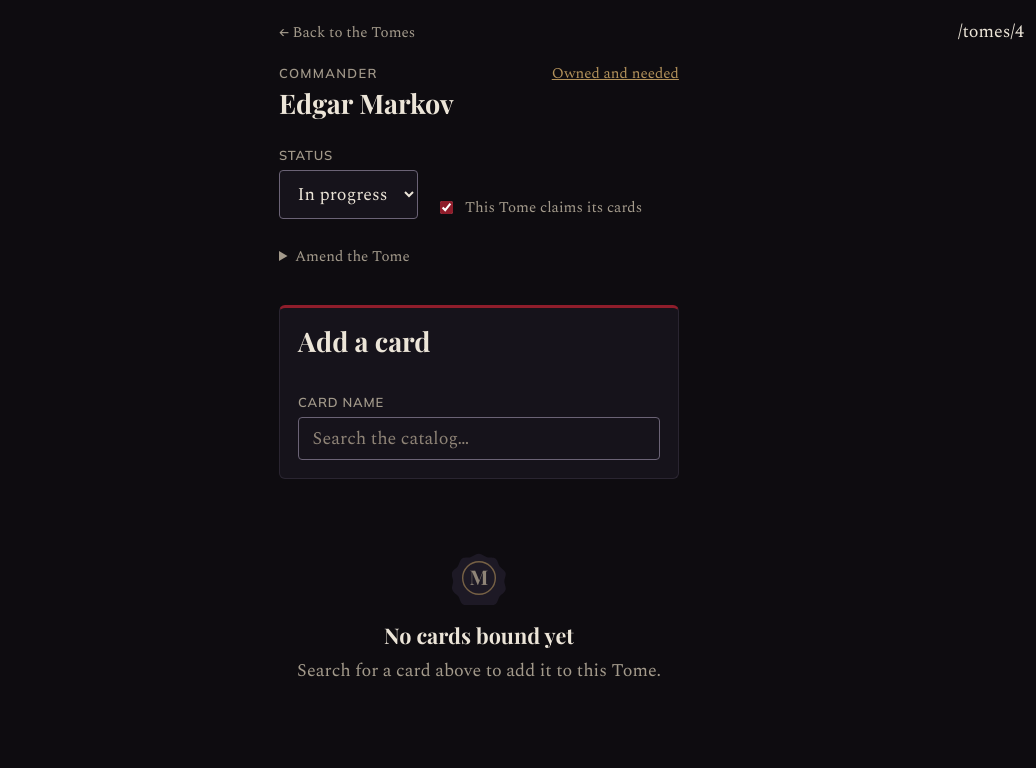
Test: TomeEditorPage › keeps a saved status when a later claims change is refused
Select "Active" in the dropdown labelled "Status" at (348, 194), box [279,170,418,219]
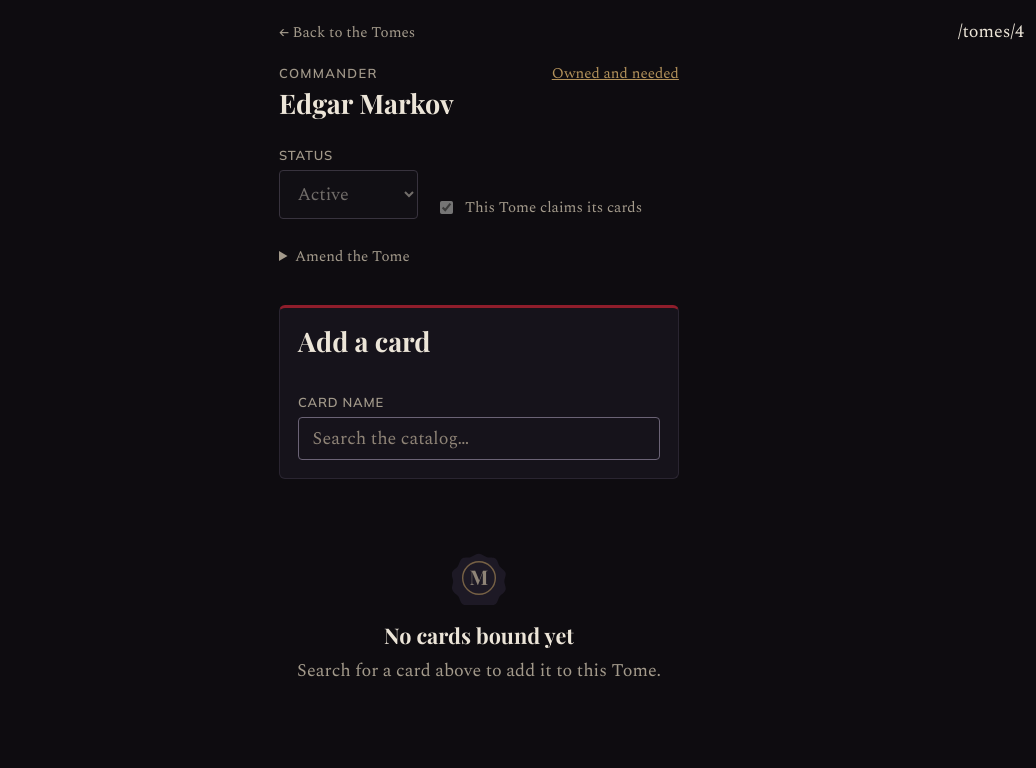
Result: the checkbox labelled "This Tome claims its cards" is disabled
Click the checkbox labelled "This Tome claims its cards" at (446, 208), box [440,201,453,214]
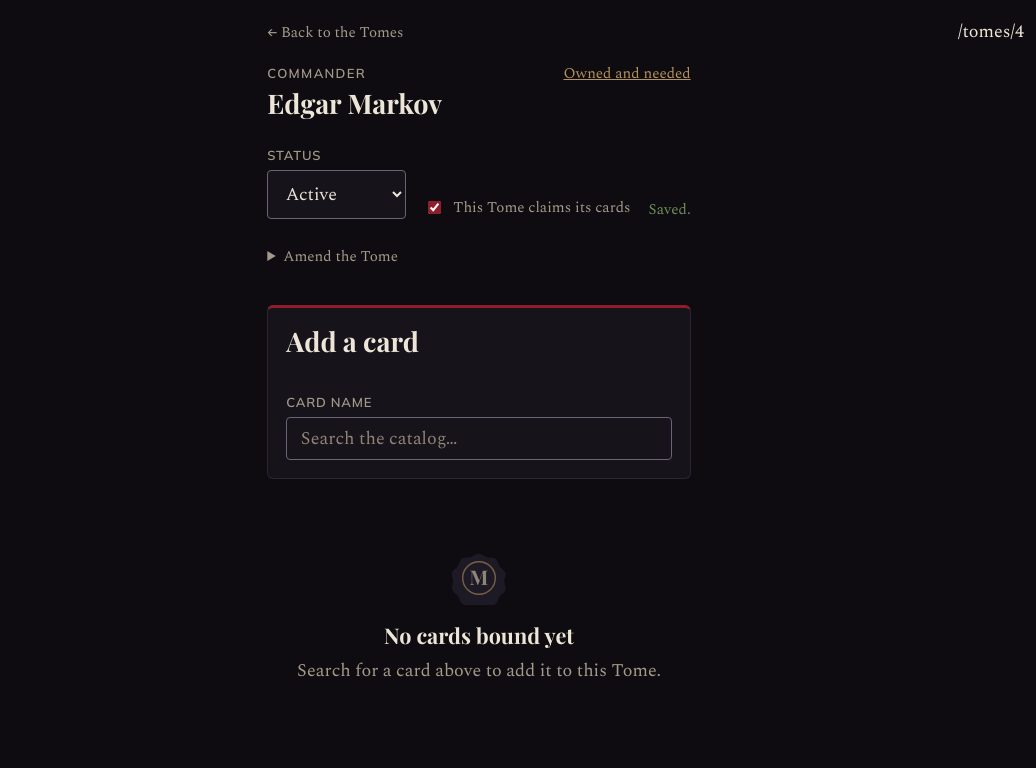
Result: the text "Saved." is shown at [648,200,691,219]
Click the checkbox labelled "This Tome claims its cards" at (435, 208), box [428,201,441,214]
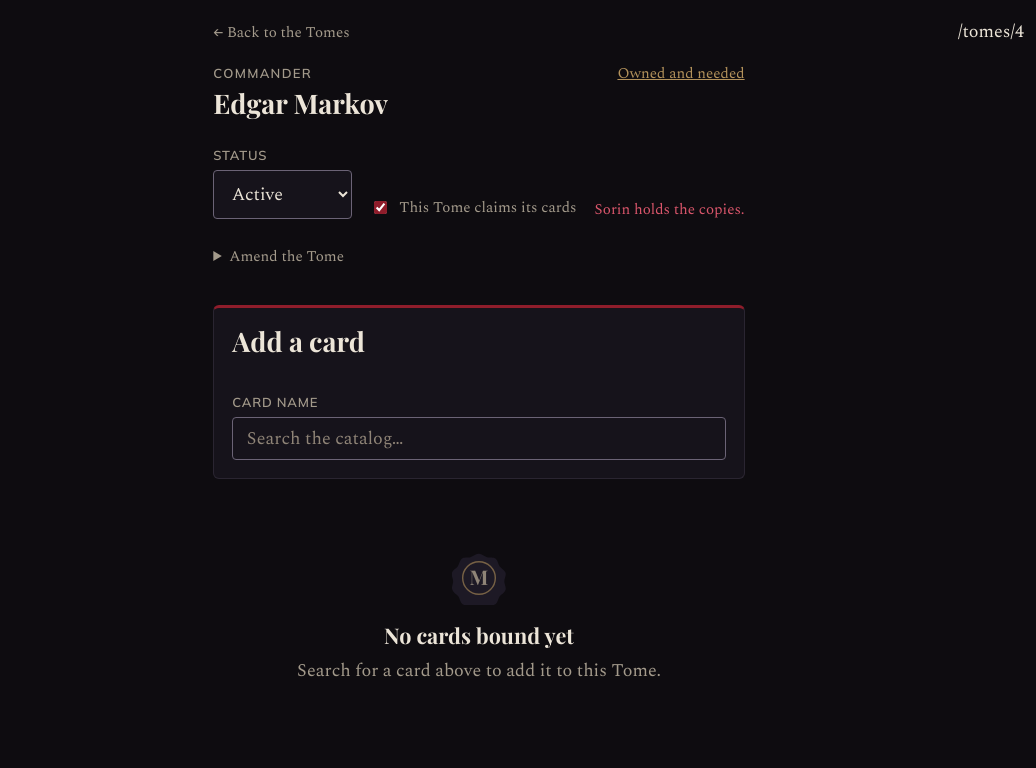
Expected: the checkbox labelled "This Tome claims its cards" is checked, [374,201,387,214]
Result: the message reads "Sorin holds the copies." at [594,198,745,220]
